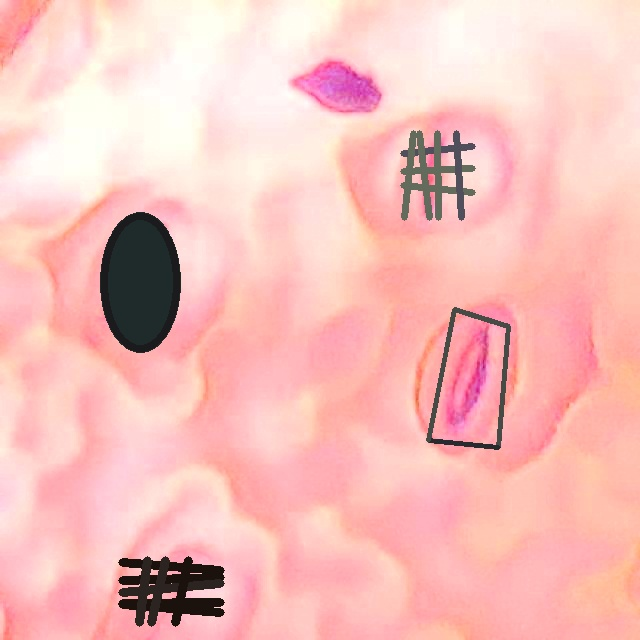close: (118, 557, 224, 625)
open: (426, 307, 510, 449), (101, 212, 180, 353), (400, 130, 475, 220)
